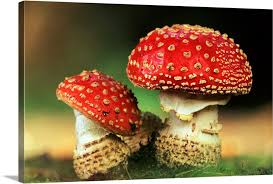Amanita muscaria: (123, 15, 256, 170), (52, 70, 141, 171)
